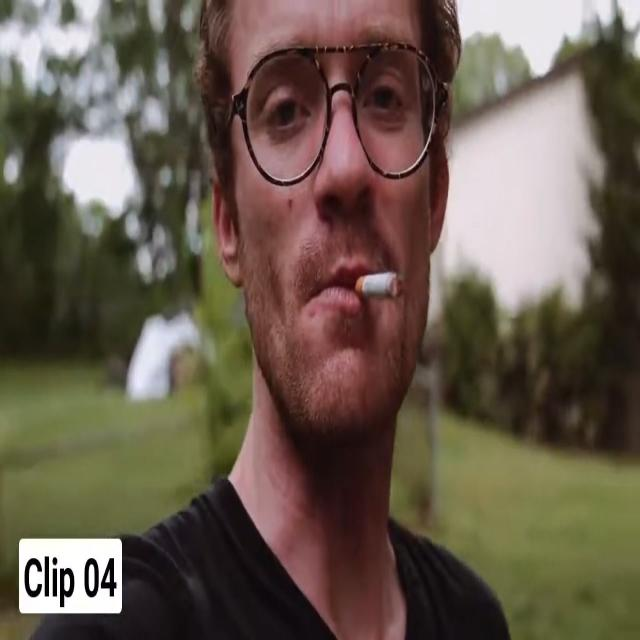Курение: (350, 266, 406, 304)
